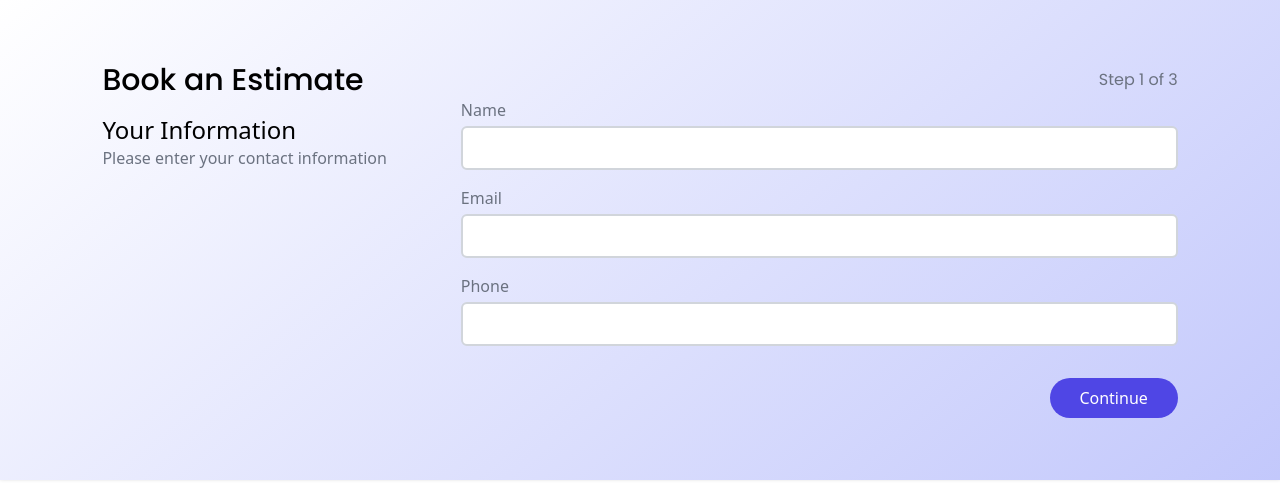
Page 1 › should render errors if the form is submitted with empty fields
This screenshot has width=1280, height=498.
Click the button "Continue" at (1114, 398), box [1050,378,1178,418]
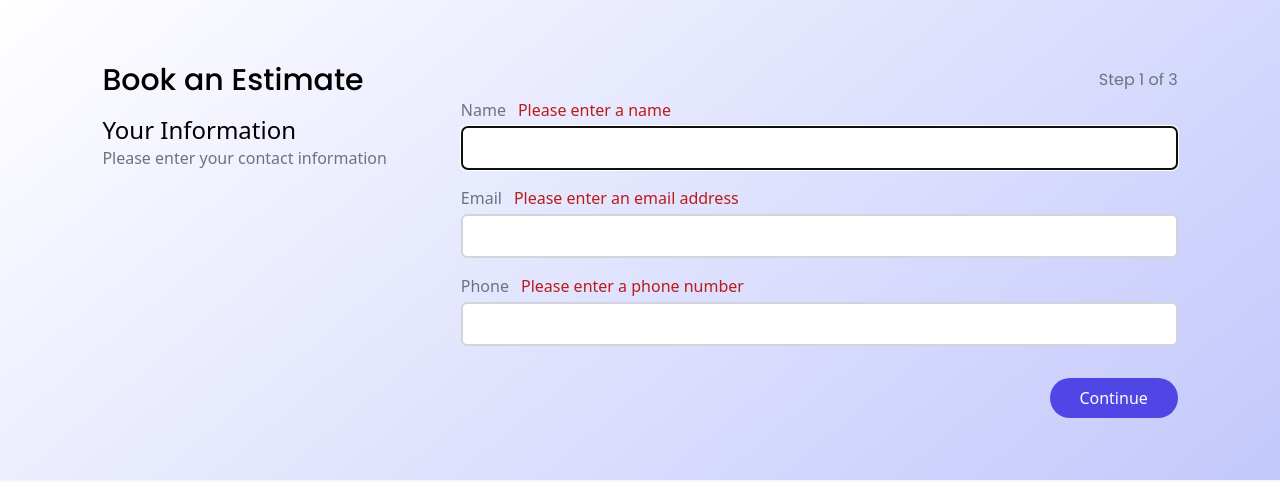
Now the text "Please enter a name" is shown, box [518,98,671,122]
Now the text "Please enter an email address" is shown, box [514,186,739,210]
Now the text "Please enter a phone number" is shown, box [521,274,744,298]
